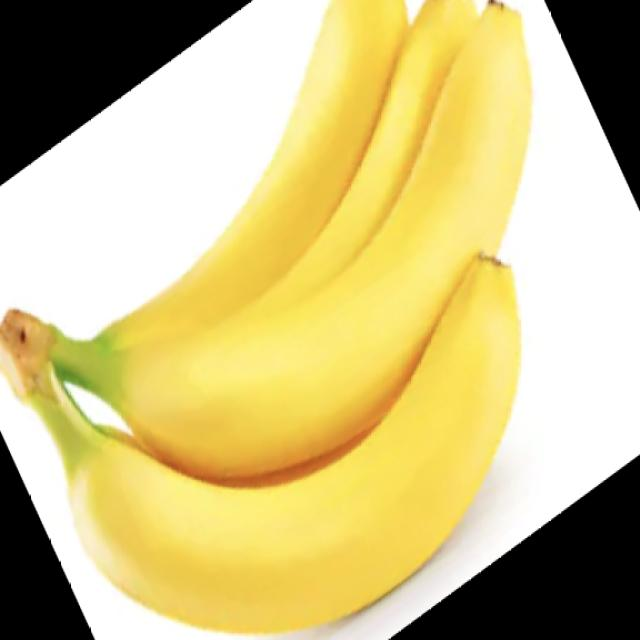god quality banana: (0, 1, 532, 634)
